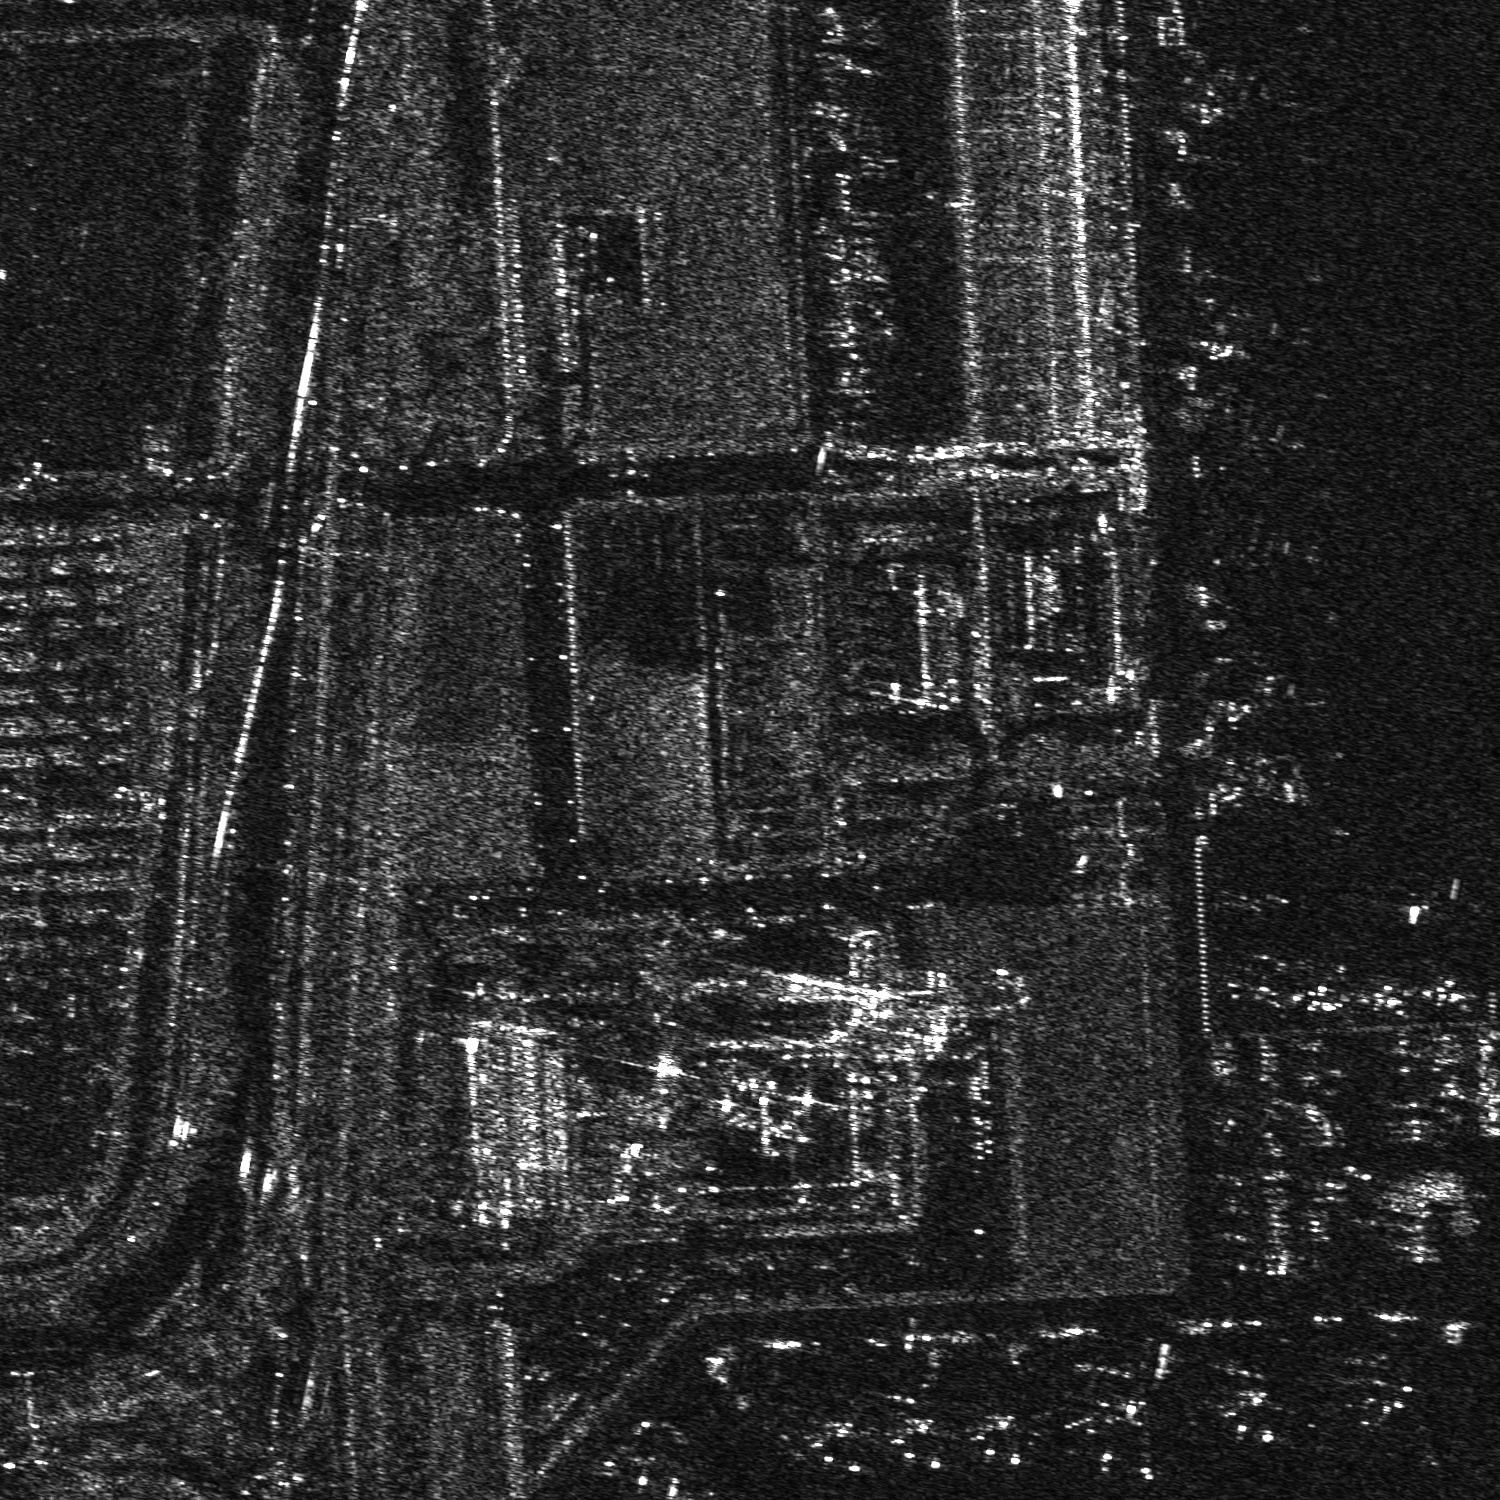A220: (1207, 670, 1328, 742)
A320/321: (1202, 507, 1330, 610)
ARJ21: (1293, 981, 1350, 1014)
Boeing737: (1220, 1365, 1295, 1445), (1346, 1359, 1420, 1423), (880, 1413, 956, 1474), (970, 1409, 1043, 1466), (804, 1419, 874, 1473)
other: (1063, 1386, 1196, 1481), (1223, 415, 1310, 481), (1357, 977, 1413, 1018), (1420, 975, 1478, 1015)
